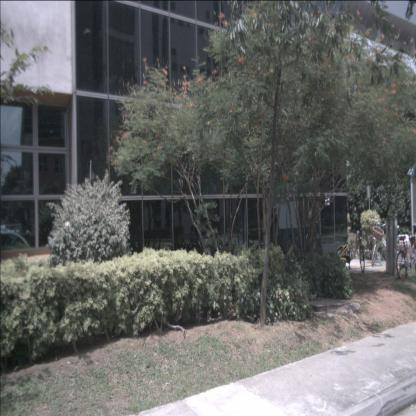vehicle-bicycle: (372, 216, 412, 267), (335, 228, 366, 273), (396, 229, 416, 281)
